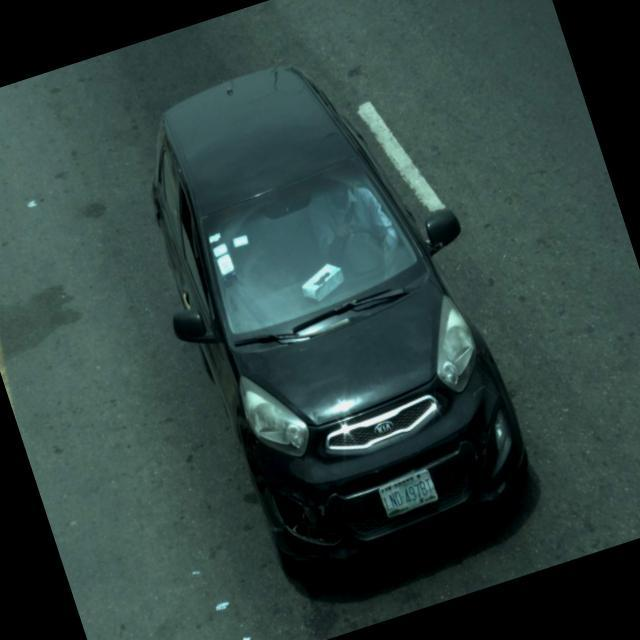windshield: (193, 159, 436, 354)
